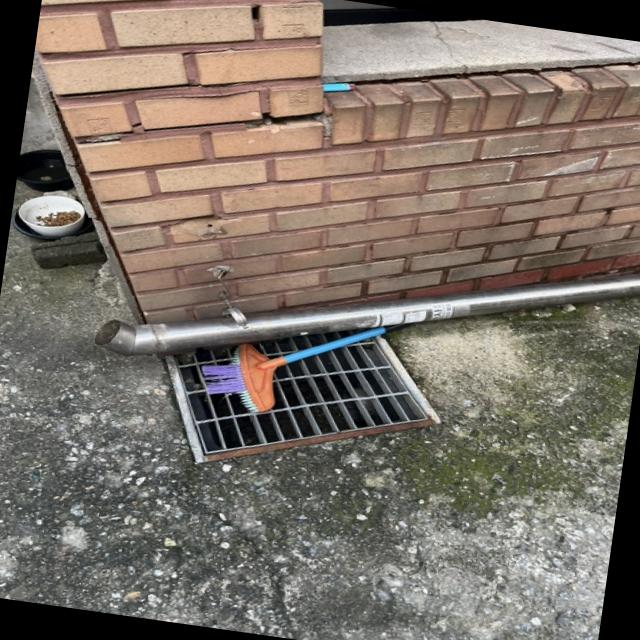drain_area: (179, 338, 427, 453), (254, 330, 364, 358)
drain_full: (173, 329, 429, 455)
